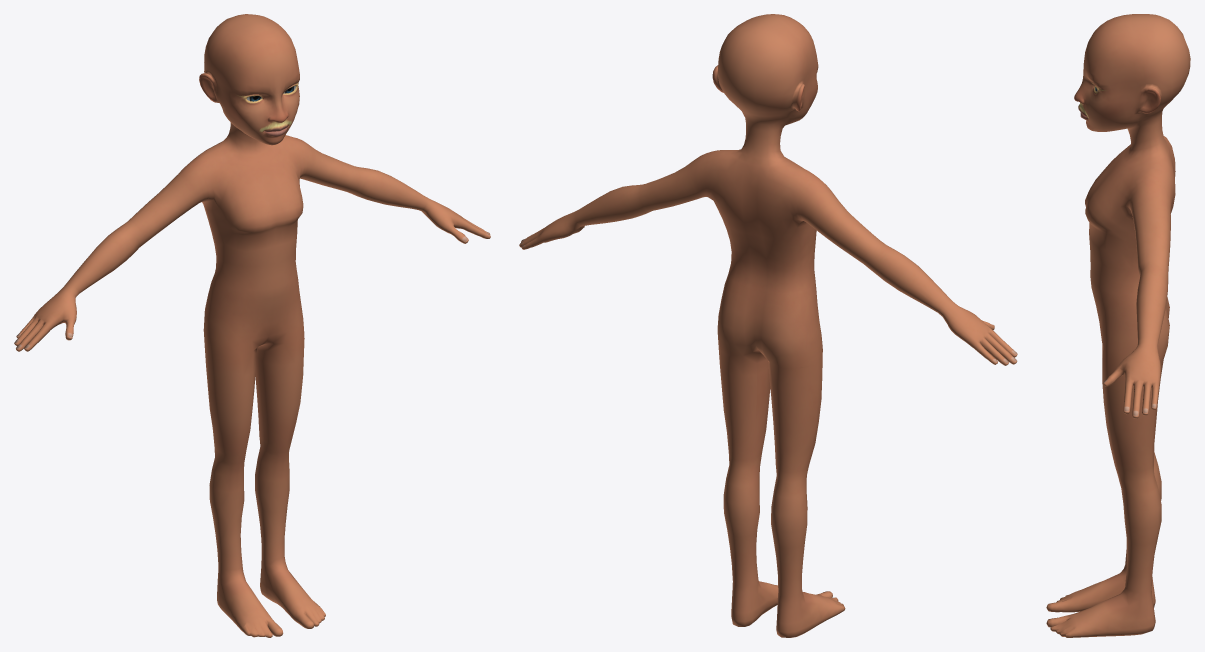
File: frame_0055.glb
The picture shows the model from 3 angles, left to right: view 1: azimuth 30°, elevation 25°; view 2: azimuth 150°, elevation 25°; view 3: azimuth 270°, elevation 25°; orthographic projection. The views are drawn at different scales.
Visible parts, largest first — view 1: frame_0055_head_geo; view 2: frame_0055_head_geo; view 3: frame_0055_head_geo.
Boxes of the visible parts, x1,y1,x2,y2 form: frame_0055_head_geo: (14,14,490,637); frame_0055_head_geo: (519,14,1017,637); frame_0055_head_geo: (1046,14,1190,637).
Size of the model in its own units: 1.28 by 1.5 by 0.3253.
3 materials, 3 textured.
